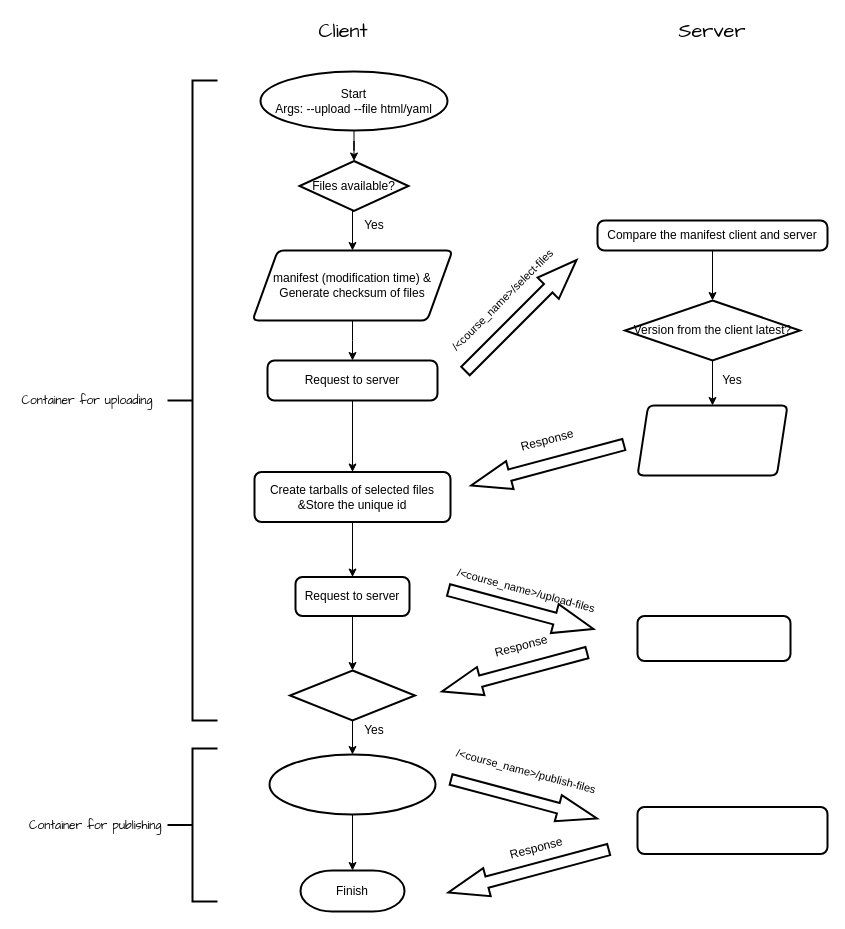
Image size: 845x929. Some labels were removed from this diagram. Here are the shapes that lost their labels. From the top down, the box of each, then its label:
(636, 404, 788, 476): list of file to upload from the client side & A unique id for the process
(636, 614, 791, 662): Upload to a temp dir identified by the unique id
(288, 669, 416, 721): Success?
(268, 753, 436, 815): Start Args: --publish --file html/yaml
(636, 806, 828, 854): Publish files (to the course dir)
